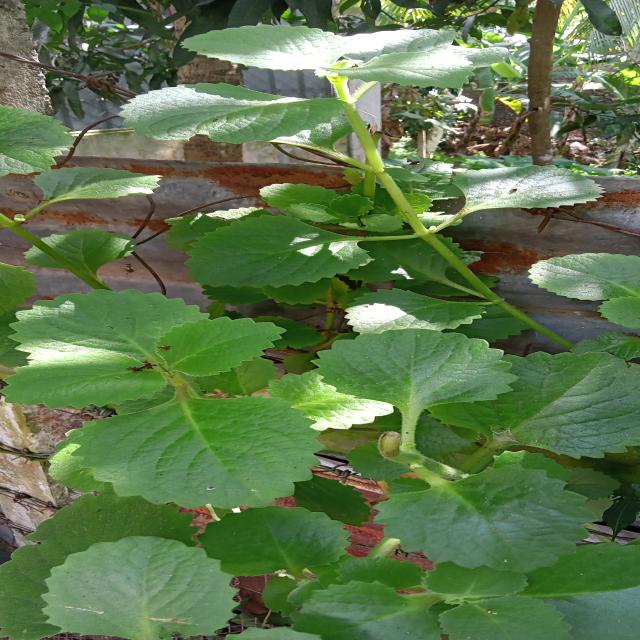Oregano: (5, 292, 349, 640), (319, 323, 640, 640), (182, 159, 472, 306), (145, 8, 561, 109), (131, 66, 387, 172)
